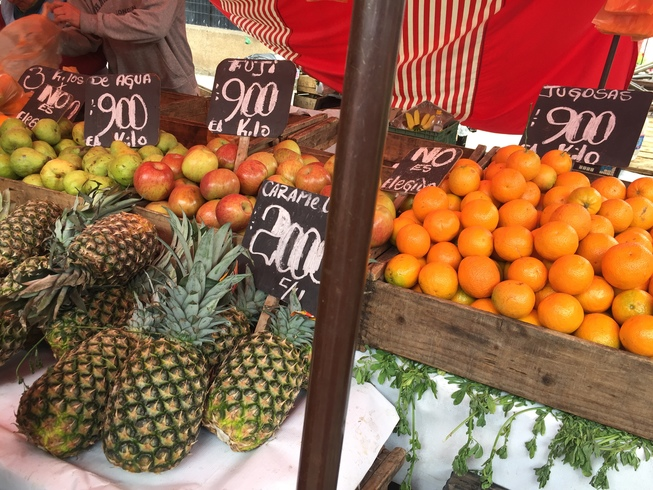precio: (228, 174, 357, 321), (513, 81, 653, 180), (207, 52, 307, 149), (74, 68, 172, 155), (12, 61, 97, 152), (388, 133, 470, 210)
